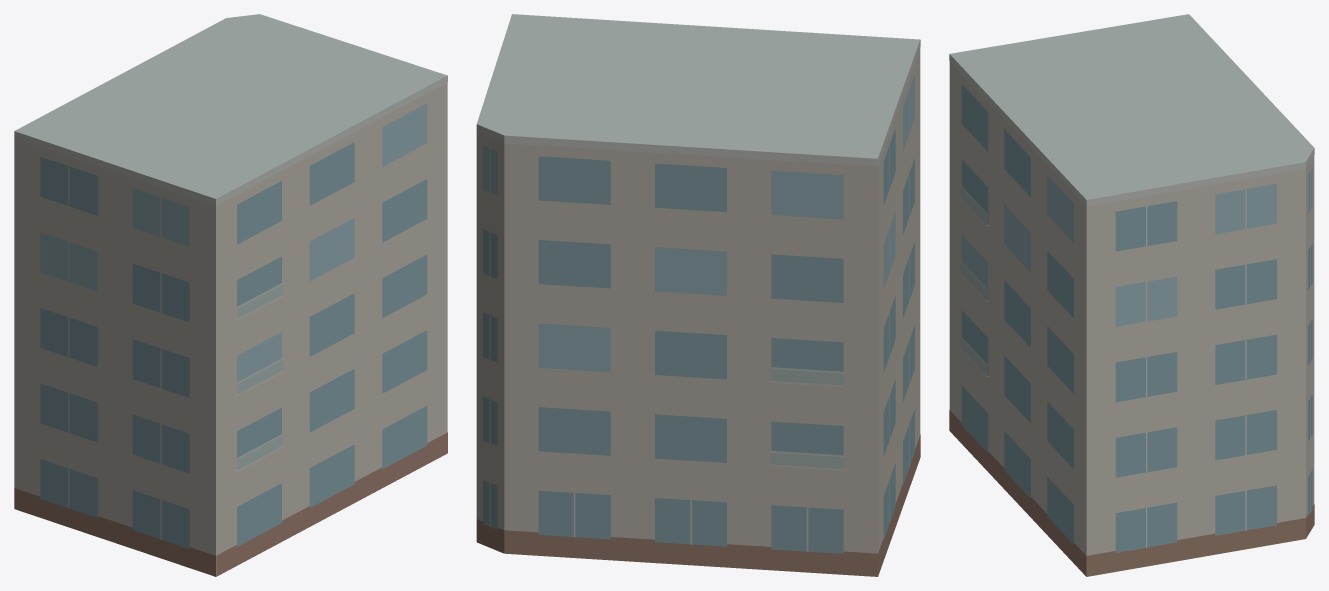
The model's file is survey-upis-32732589.glb.
3 views of the same model, side by side, from view 1: azimuth 30°, elevation 25°; view 2: azimuth 150°, elevation 25°; view 3: azimuth 270°, elevation 25° (orthographic). The views are drawn at different scales.
Parts seen in each view (by area): view 1: survey-upis-32732589.tmp; view 2: survey-upis-32732589.tmp; view 3: survey-upis-32732589.tmp.
Part boxes in pixels (box(x1,y1,x2,y2)): survey-upis-32732589.tmp: box(14, 14, 447, 576); survey-upis-32732589.tmp: box(476, 14, 920, 576); survey-upis-32732589.tmp: box(949, 14, 1314, 576).
Bounding box in the file's own units: 13.98 × 13.2 × 11.59.
